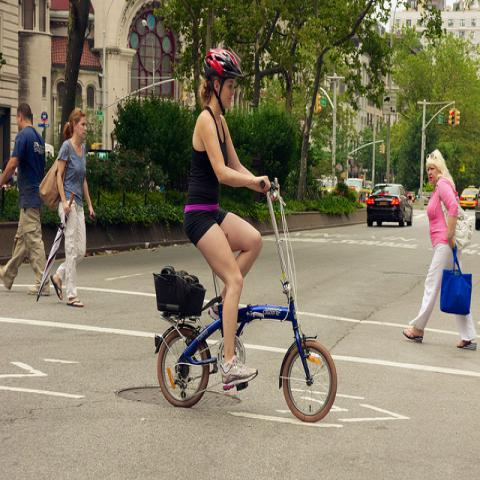car: (368, 186, 413, 228), (345, 178, 368, 202), (459, 188, 480, 211), (475, 189, 479, 232)
